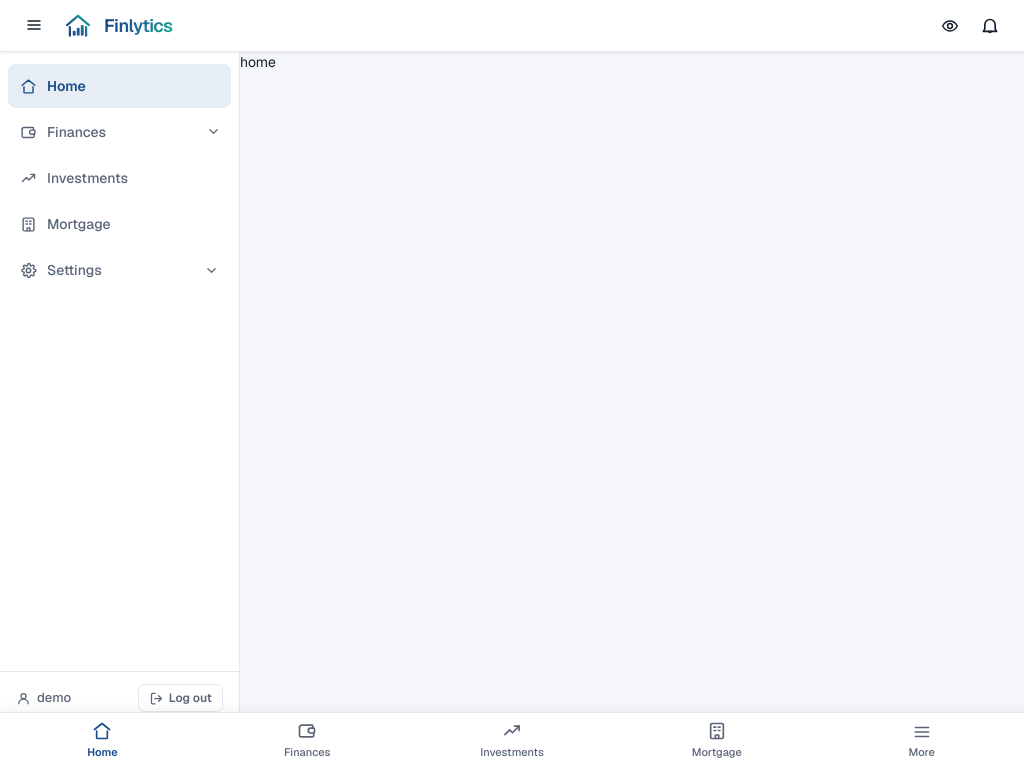
Scenario: the mobile drawer › closes once a link lands on another page
The image size is (1024, 768).
Click the button with class "hamburger-btn".
click(34, 26)  # box [16, 8, 52, 44]
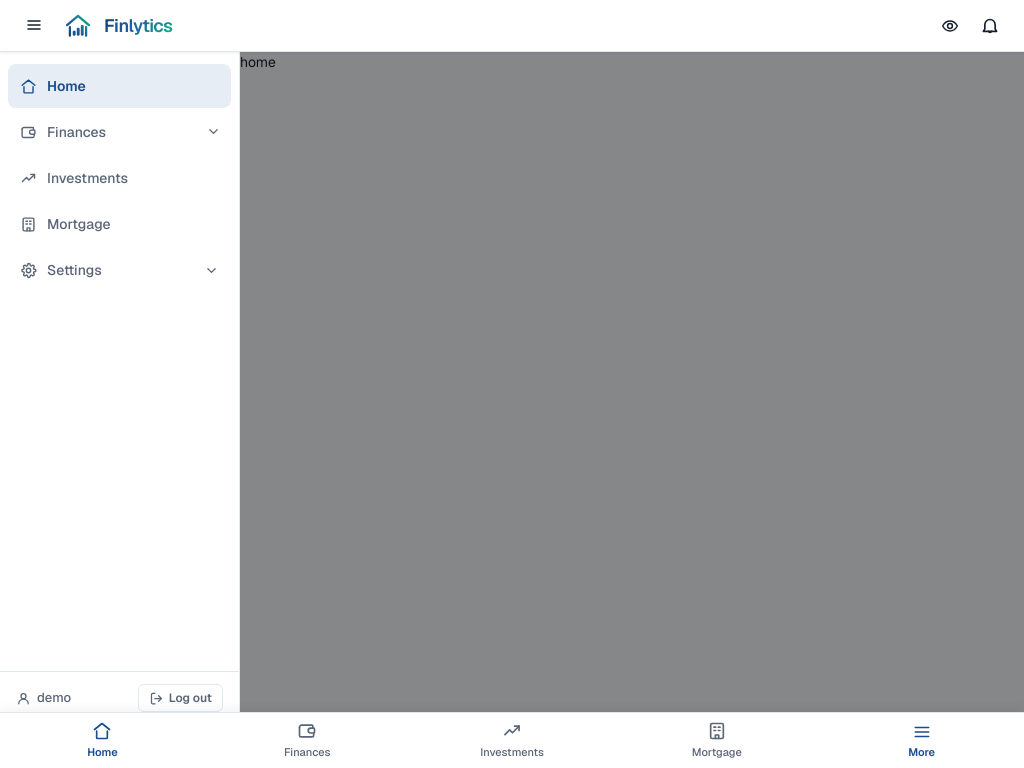
Click the link to "/mortgage".
click(65, 224)  # box [20, 214, 111, 232]
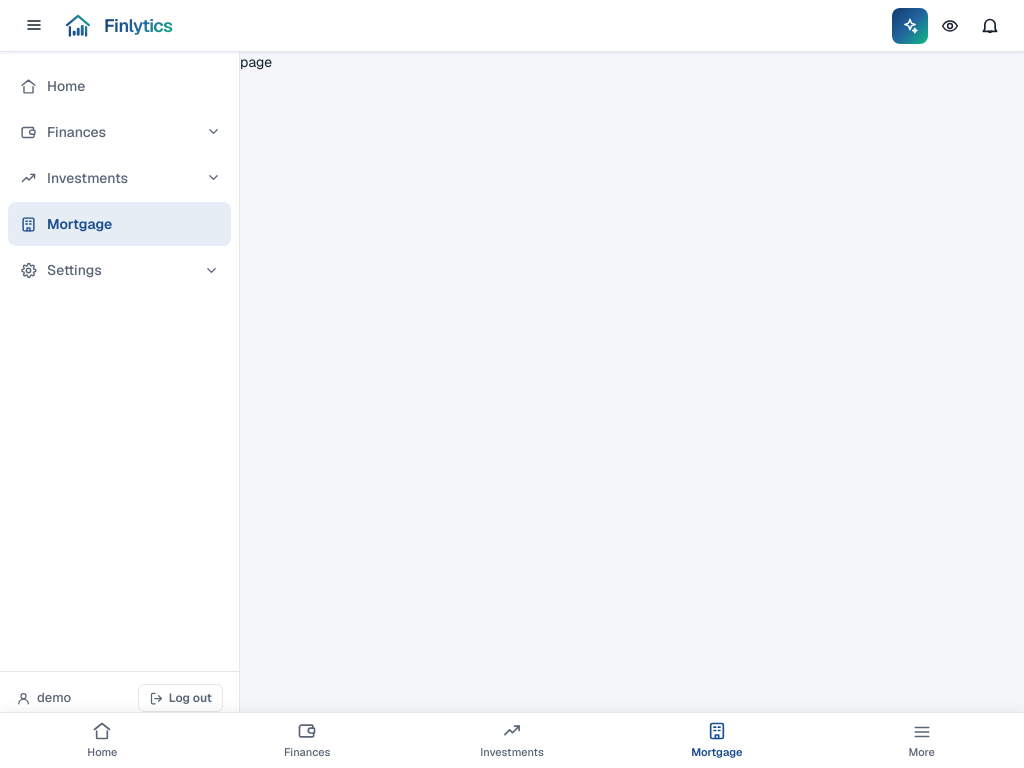
Check: the text "page" is shown, box [240, 53, 272, 71]
